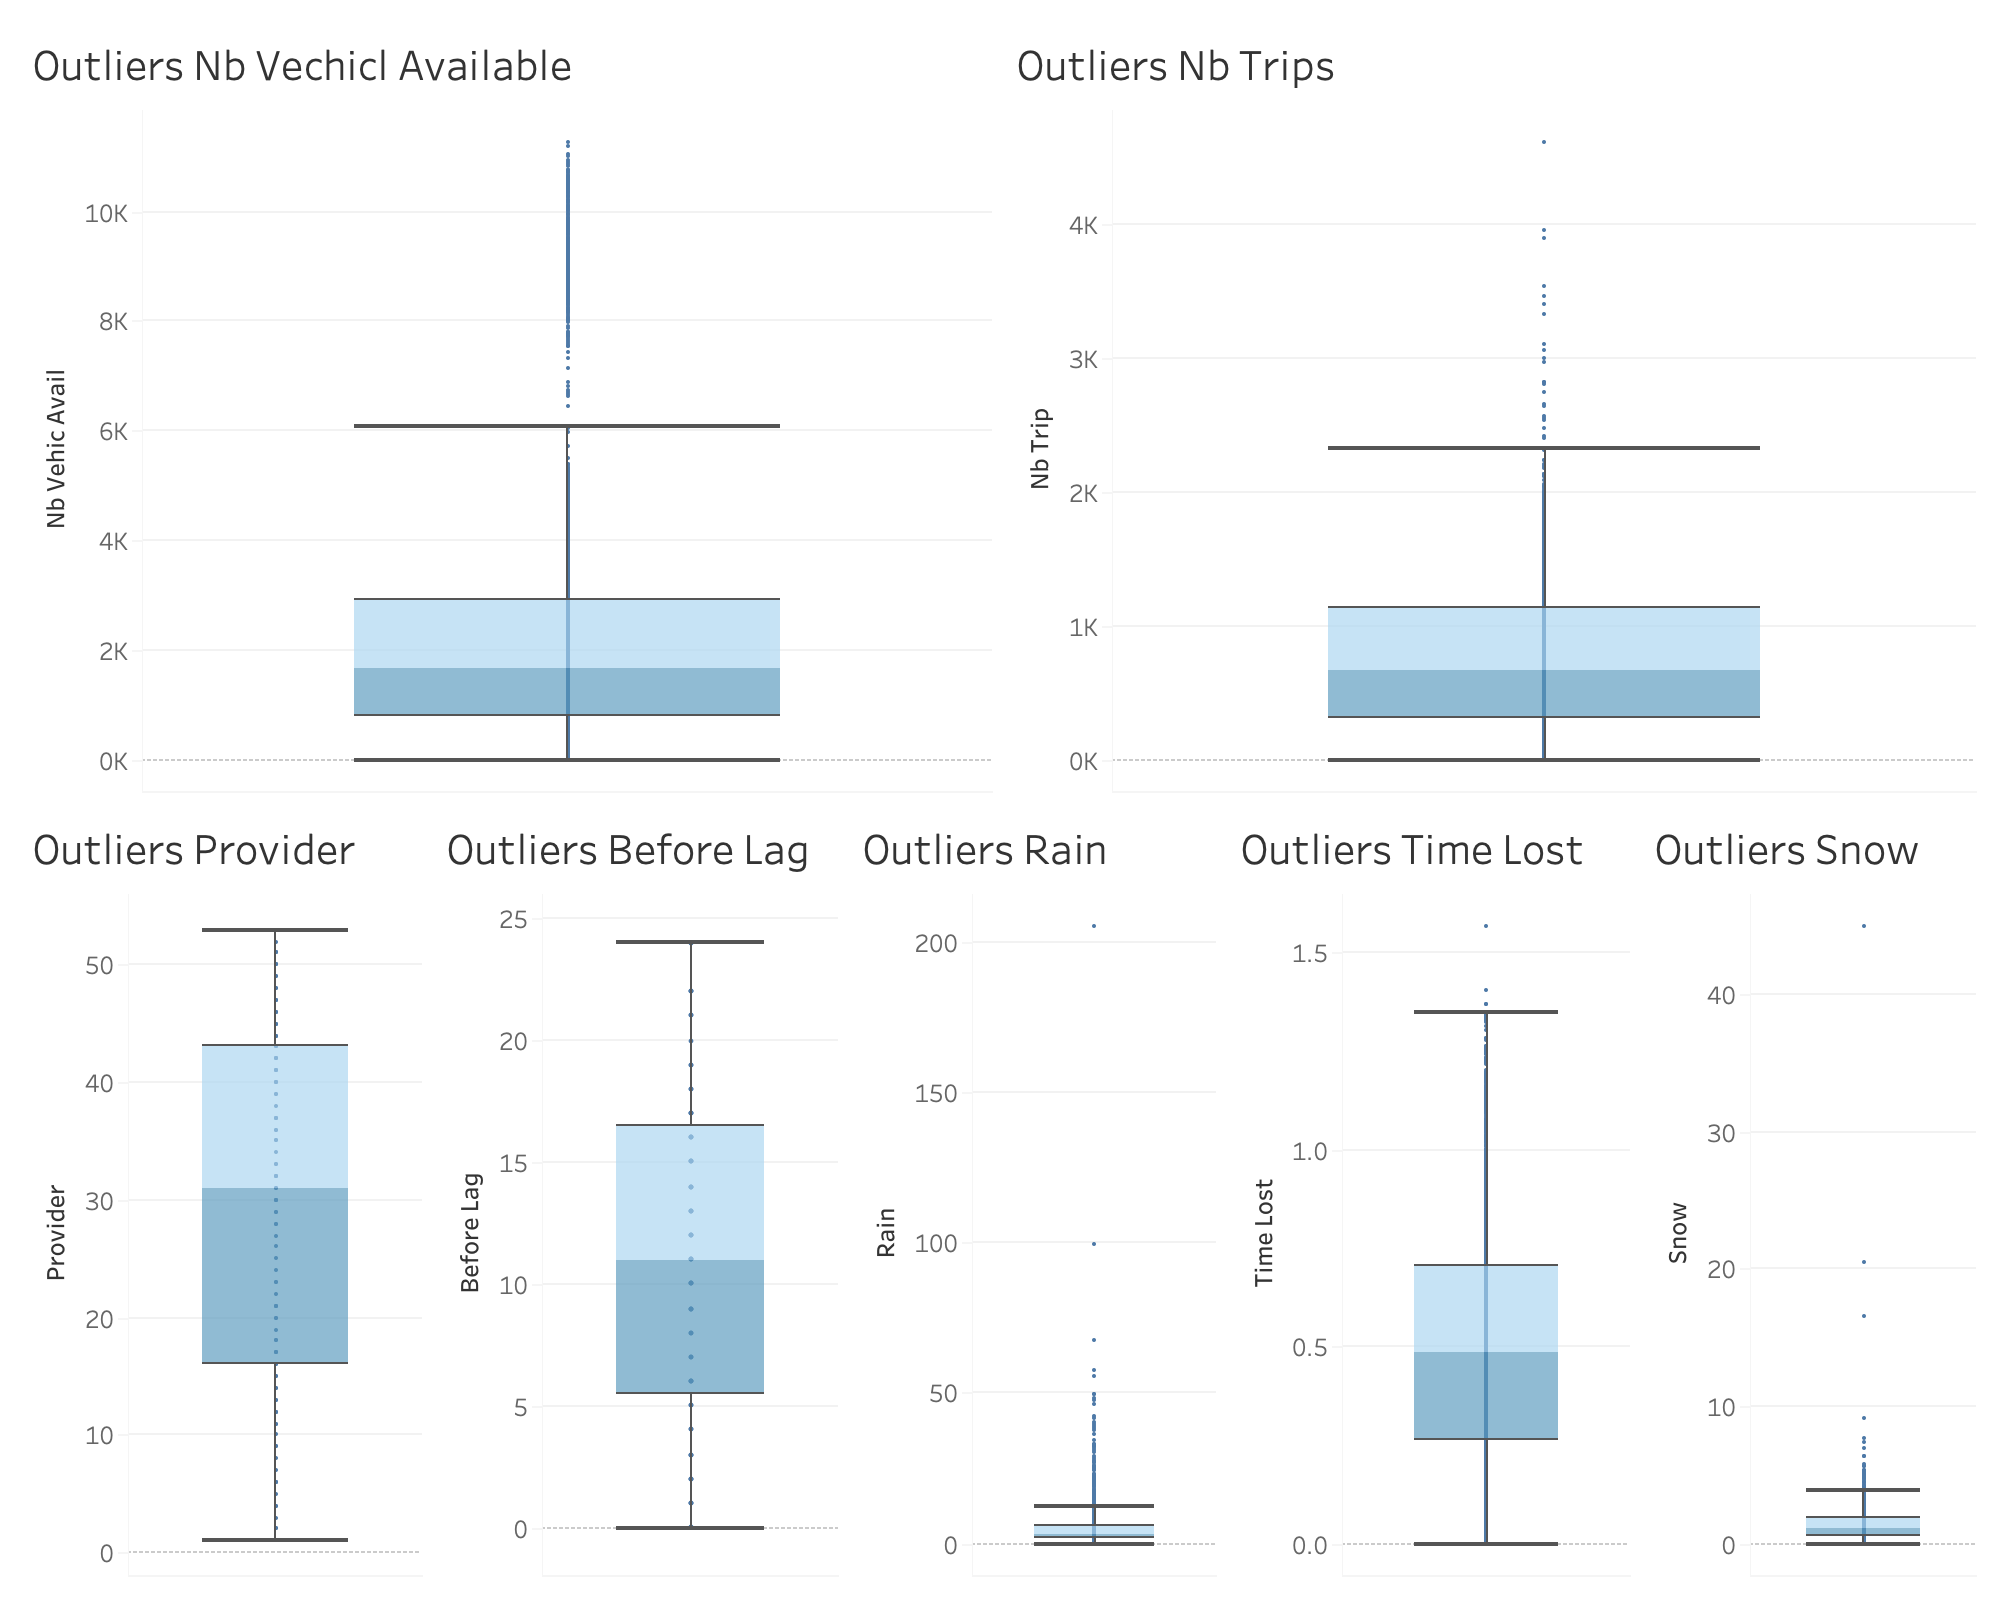

What the dashboard file says about the page in this screenshot:
{"tool":"tableau","page":{"name":"Dashboard 2","canvas":[1000,800],"ordinal":1},"visuals":[{"type":"worksheet","title":"Outliers Nb Vechicl Available","mark":"Circle","rows":["nb_vehic_avail"],"box":[8,8,492,392]},{"type":"worksheet","title":"Outliers Nb Trips","mark":"Circle","rows":["nb_trip"],"box":[500,8,492,392]},{"type":"worksheet","title":"Outliers Provider","mark":"Circle","rows":["provider"],"box":[8,400,207,392]},{"type":"worksheet","title":"Outliers Before Lag","mark":"Circle","rows":["before_lag"],"box":[215,400,208,392]},{"type":"worksheet","title":"Outliers Rain","mark":"Circle","rows":["rain"],"box":[423,400,189,392]},{"type":"worksheet","title":"Outliers Time Lost","mark":"Circle","rows":["time_lost"],"box":[612,400,207,392]},{"type":"worksheet","title":"Outliers Snow","mark":"Circle","rows":["snow"],"box":[819,400,173,392]}]}

Visuals, with their boxes in screenshot pixels (x1, y1, x2, y2), scaled from the page's 1000x800 canvas onto the 2000x1600 screenshot:
"Outliers Nb Vechicl Available" worksheet (Circle marks): [x1=16, y1=16, x2=1000, y2=800]
"Outliers Nb Trips" worksheet (Circle marks): [x1=1000, y1=16, x2=1984, y2=800]
"Outliers Provider" worksheet (Circle marks): [x1=16, y1=800, x2=430, y2=1584]
"Outliers Before Lag" worksheet (Circle marks): [x1=430, y1=800, x2=846, y2=1584]
"Outliers Rain" worksheet (Circle marks): [x1=846, y1=800, x2=1224, y2=1584]
"Outliers Time Lost" worksheet (Circle marks): [x1=1224, y1=800, x2=1638, y2=1584]
"Outliers Snow" worksheet (Circle marks): [x1=1638, y1=800, x2=1984, y2=1584]
